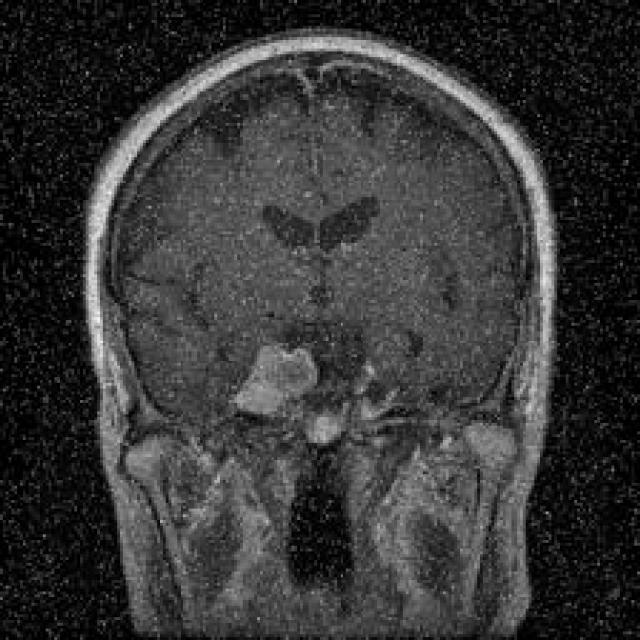meningioma_tumor: (222, 330, 331, 440)
